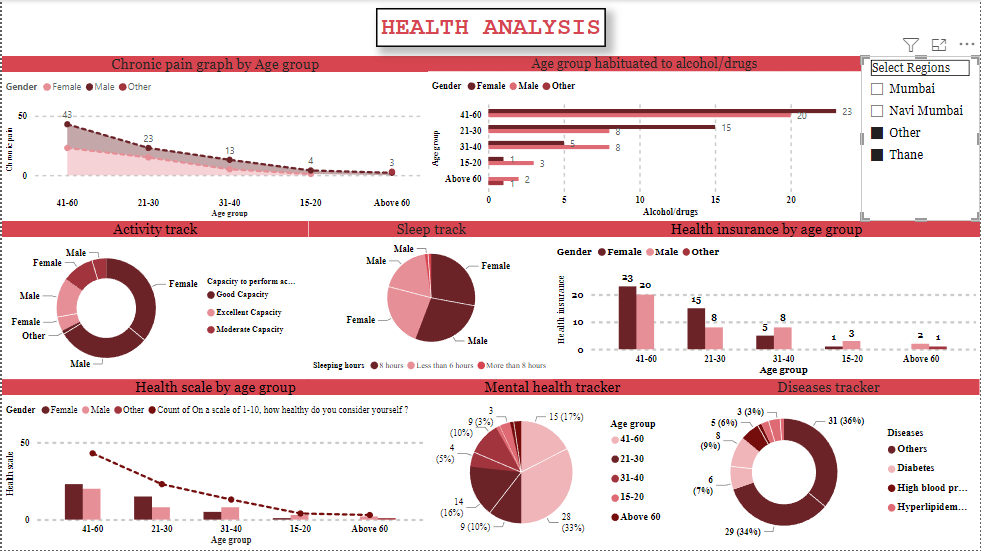

This screenshot's page, from the dashboard's own definition file:
{"tool":"powerbi","page":{"name":"Page 1","canvas":[1280,720],"ordinal":0},"visuals":[{"type":"clusteredColumnChart","title":"Health insurance by age group","fields":{"Series":["Health Analysis.Gender"],"Category":["Health Analysis.Age group"],"Y":["CountNonNull(Health Analysis.Do you have a health insurance ? )"]},"box":[721.3,289.5,558.7,206.6],"z":0},{"type":"slicer","fields":{"Values":["Health Analysis.Select your region of residence"]},"box":[1124.6,73.9,155.1,215.9],"z":1000},{"type":"lineClusteredColumnComboChart","title":"Health scale by age group","fields":{"Category":["Health Analysis.Age group"],"Series":["Health Analysis.Gender"],"Y":["CountNonNull(Health Analysis.On a scale of 1-10, how healthy do you consider yourself ?)"],"Y2":["CountNonNull(Health Analysis.On a scale of 1-10, how healthy do you consider yourself ?)"]},"box":[0,496.1,558.7,223.5],"z":2000},{"type":"stackedAreaChart","title":"Chronic pain graph by Age group ","fields":{"Category":["Health Analysis.Age group"],"Y":["CountNonNull(Health Analysis.Do you experience any chronic pain ?)"],"Series":["Health Analysis.Gender"]},"box":[0,73.4,558.3,216.1],"z":3000},{"type":"donutChart","title":"Activity track","fields":{"Category":["Health Analysis.In your opinion, at what capacity can you perform everyday activities ? "],"Series":["Health Analysis.Gender"],"Y":["CountNonNull(Health Analysis.Gender)"]},"box":[0,289.5,401.3,206.6],"z":4000},{"type":"clusteredBarChart","title":"Age group  habituated to alcohol/drugs","fields":{"Y":["CountNonNull(Health Analysis.Are you habituated to alcohol/drugs ?)"],"Series":["Health Analysis.Gender"],"Category":["Health Analysis.Age group"]},"box":[558.3,73.4,566.6,216.1],"z":5000},{"type":"pieChart","title":"Mental health tracker","fields":{"Category":["Health Analysis.Age group"],"Y":["CountNonNull(Health Analysis.Does your mental well being has an affect on your physical health ?)"],"Series":["Health Analysis.Does your mental well being has an affect on your physical health ?"]},"box":[558.3,495.9,325.5,223],"z":6000},{"type":"donutChart","title":"Diseases tracker","fields":{"Series":["Health Analysis.Gender"],"Category":["Health Analysis.Do you have any hereditary conditions/ diseases ?"],"Y":["CountNonNull(Health Analysis.Do you have any hereditary conditions/ diseases ?)"]},"box":[883.8,495.9,396.2,223],"z":7000},{"type":"pieChart","title":"Sleep track","fields":{"Category":["Health Analysis.How much hours of sleep do you get on a daily basis ? "],"Y":["CountNonNull(Health Analysis.Gender)"],"Series":["Health Analysis.Gender"]},"box":[401.3,289.5,320,206.6],"z":8000},{"type":"shape","box":[489,11.1,300.6,51.3],"z":9000}]}

Visuals, with their boxes in screenshot pixels (x1, y1, x2, y2), scaled from the page's 1280x720 canvas onto the 981x551 screenshot:
"Health insurance by age group" clusteredColumnChart: x1=553 y1=222 x2=980 y2=380
slicer - Health Analysis.Select your region of residence: x1=862 y1=57 x2=980 y2=222
"Health scale by age group" lineClusteredColumnComboChart: x1=0 y1=380 x2=428 y2=550
"Chronic pain graph by Age group " stackedAreaChart: x1=0 y1=56 x2=428 y2=222
"Activity track" donutChart: x1=0 y1=222 x2=308 y2=380
"Age group  habituated to alcohol/drugs" clusteredBarChart: x1=428 y1=56 x2=862 y2=222
"Mental health tracker" pieChart: x1=428 y1=380 x2=677 y2=550
"Diseases tracker" donutChart: x1=677 y1=380 x2=980 y2=550
"Sleep track" pieChart: x1=308 y1=222 x2=553 y2=380
shape: x1=375 y1=8 x2=605 y2=48
